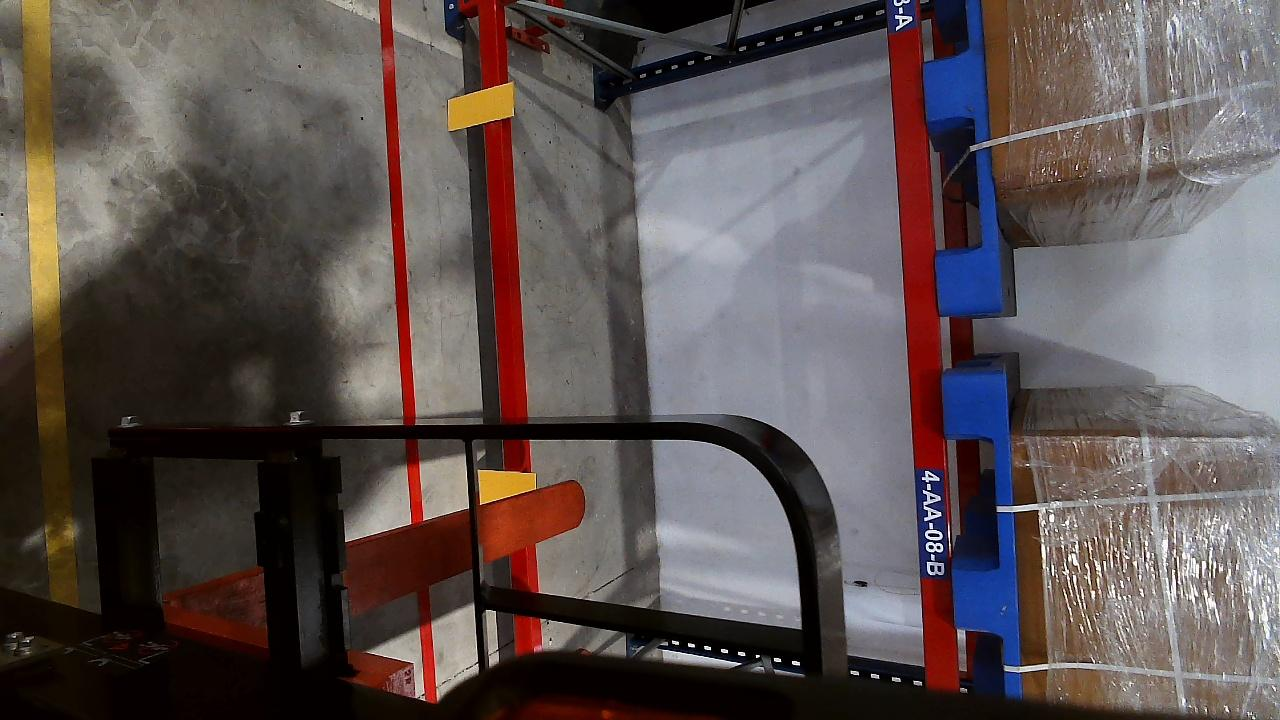h_rack: (882, 0, 952, 596), (471, 5, 525, 421)
orange_strip: (447, 83, 514, 129), (477, 470, 536, 503)
red_line: (378, 0, 416, 429)
small_pallet: (917, 1, 1006, 309), (941, 372, 1024, 680)
yellow_line: (18, 0, 75, 598)
